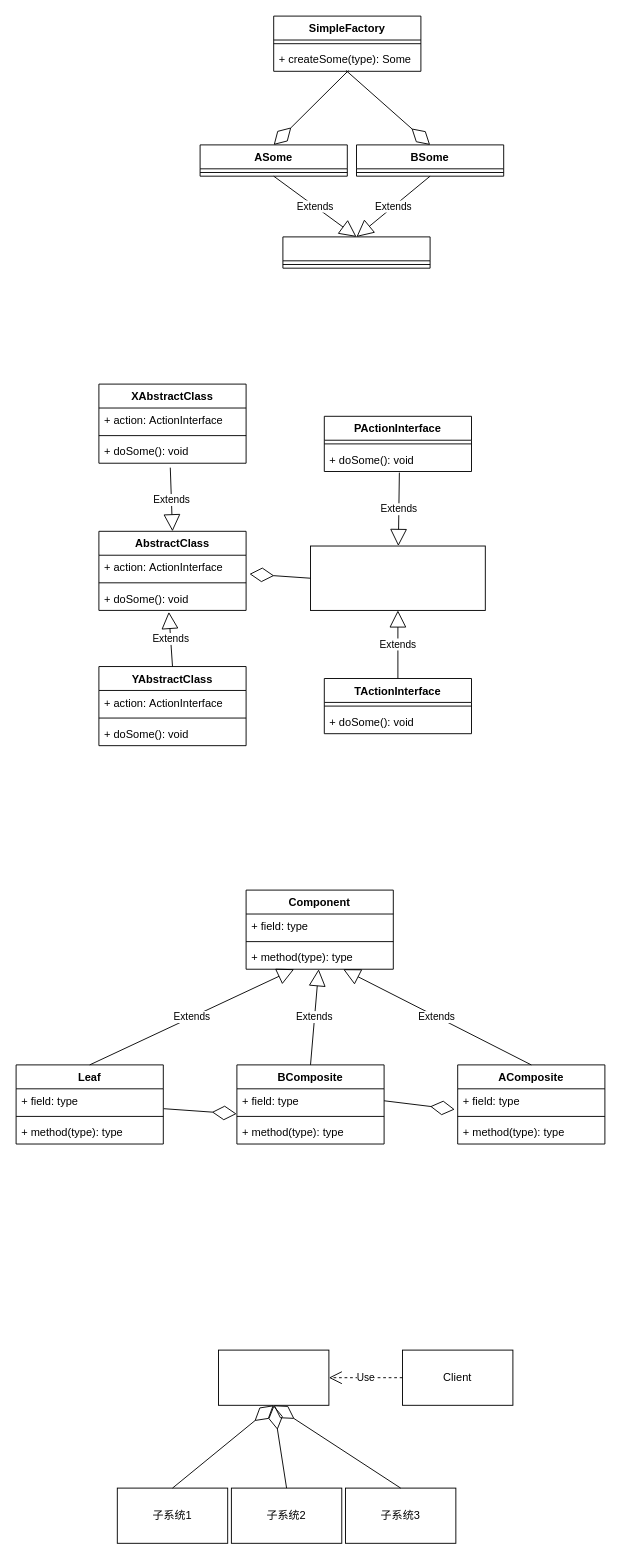
This 621x1559 diagram has some shape labels left out. The shapes that lost their labels are listed below. From the top down, each one's centre as x and y in pixels, then its label:
the point at 356,252: Some
the point at 397,577: <<Interface>> ActionInterface + doSome(): void
the point at 273,1377: 外观类
